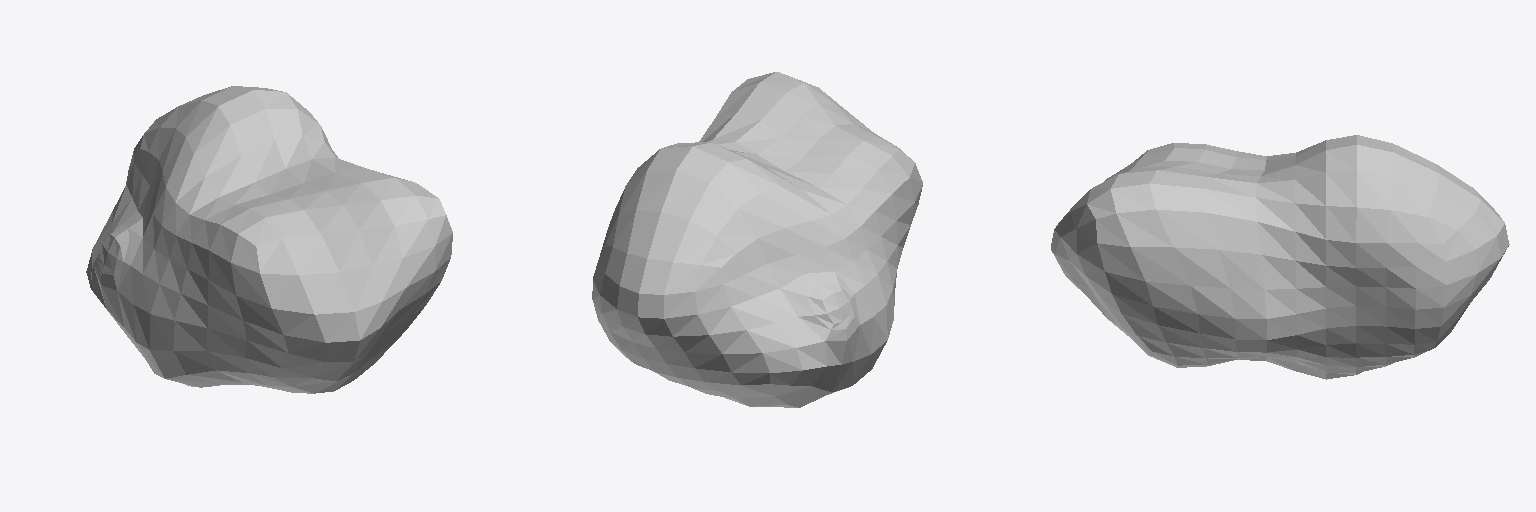
Rendered from cloud1.obj.
3 renders of one model, left to right at view 1: azimuth 30°, elevation 25°; view 2: azimuth 150°, elevation 25°; view 3: azimuth 270°, elevation 25°, orthographic.
Parts seen in each view (by area): view 1: Cloud.001_Cube.002; view 2: Cloud.001_Cube.002; view 3: Cloud.001_Cube.002.
Boxes of the visible parts, <box> form: Cloud.001_Cube.002: <box>86,86,452,393</box>; Cloud.001_Cube.002: <box>592,72,922,407</box>; Cloud.001_Cube.002: <box>1051,135,1509,379</box>.
Bounding box in the file's own units: 2.28 × 2.4 × 3.86.